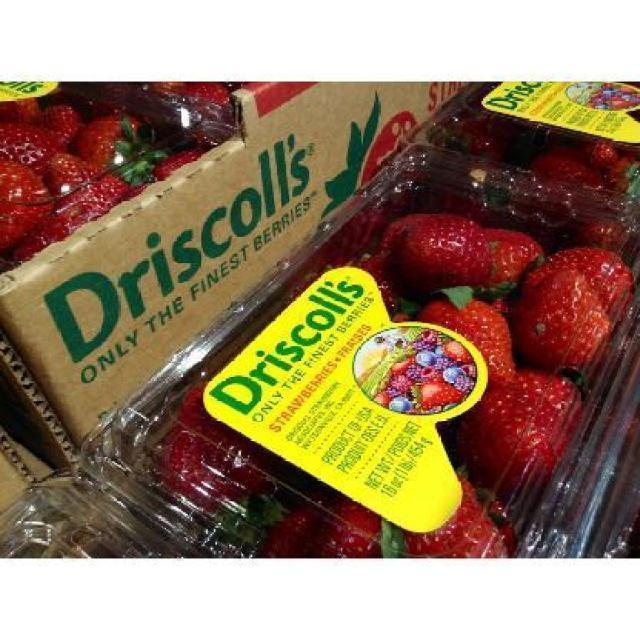Strawberry: (164, 207, 630, 556), (0, 91, 206, 260), (456, 118, 639, 202), (506, 252, 620, 376), (176, 79, 230, 115), (150, 79, 186, 90)
